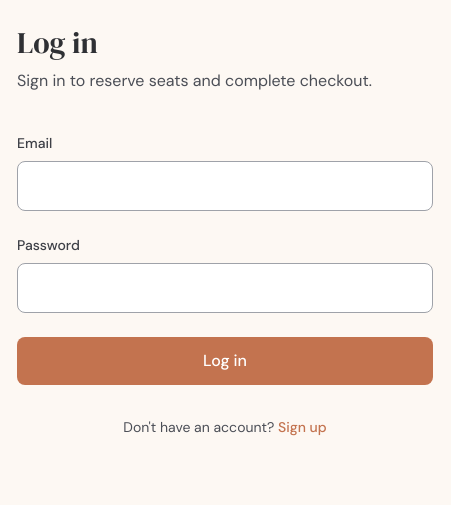
LoginPage › shows error message when login fails
Type "a@b.com" into the field labelled "Email" at (225, 186), box left=17, top=161, right=433, bottom=211
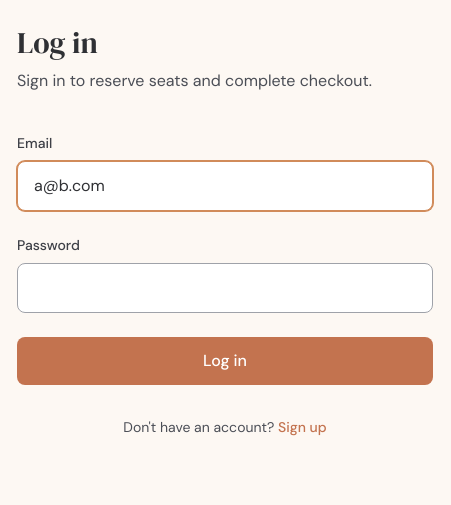
Type "wrong" into the password field labelled "Password" at (225, 288), box left=17, top=263, right=433, bottom=313
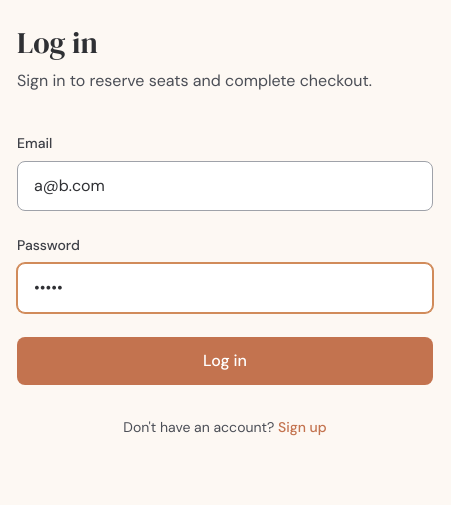
Click the button "Log in" at (225, 361), box left=17, top=337, right=433, bottom=385
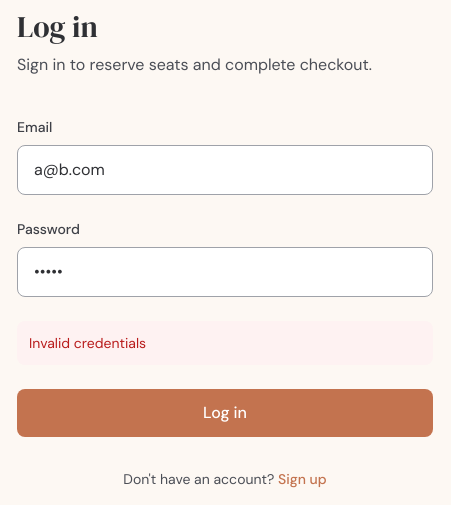
Expected: the text "Invalid credentials" is shown, left=17, top=321, right=433, bottom=365
